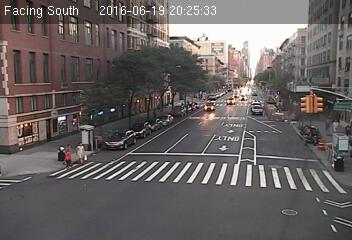neg: (58, 182, 78, 209), (257, 171, 277, 198), (152, 146, 171, 171), (214, 36, 232, 61), (325, 154, 343, 178), (229, 131, 246, 154), (70, 51, 87, 73), (33, 73, 50, 95), (136, 71, 152, 93), (308, 125, 324, 147), (306, 38, 322, 60), (259, 37, 275, 59), (111, 34, 127, 55), (166, 205, 182, 226), (295, 94, 310, 115), (160, 78, 175, 98), (194, 94, 209, 114), (184, 36, 199, 56), (32, 112, 47, 132), (219, 195, 234, 215), (231, 93, 246, 112), (99, 98, 113, 118), (117, 125, 131, 144), (199, 152, 213, 171), (25, 151, 38, 168), (259, 96, 271, 111)
pos: (73, 139, 92, 164), (58, 142, 76, 167)
